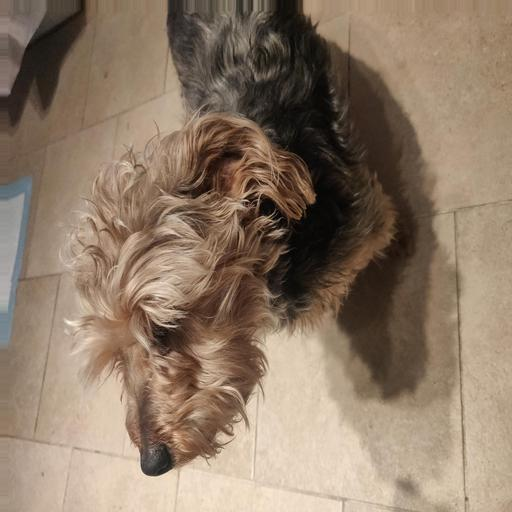dog: (48, 137, 381, 470)
